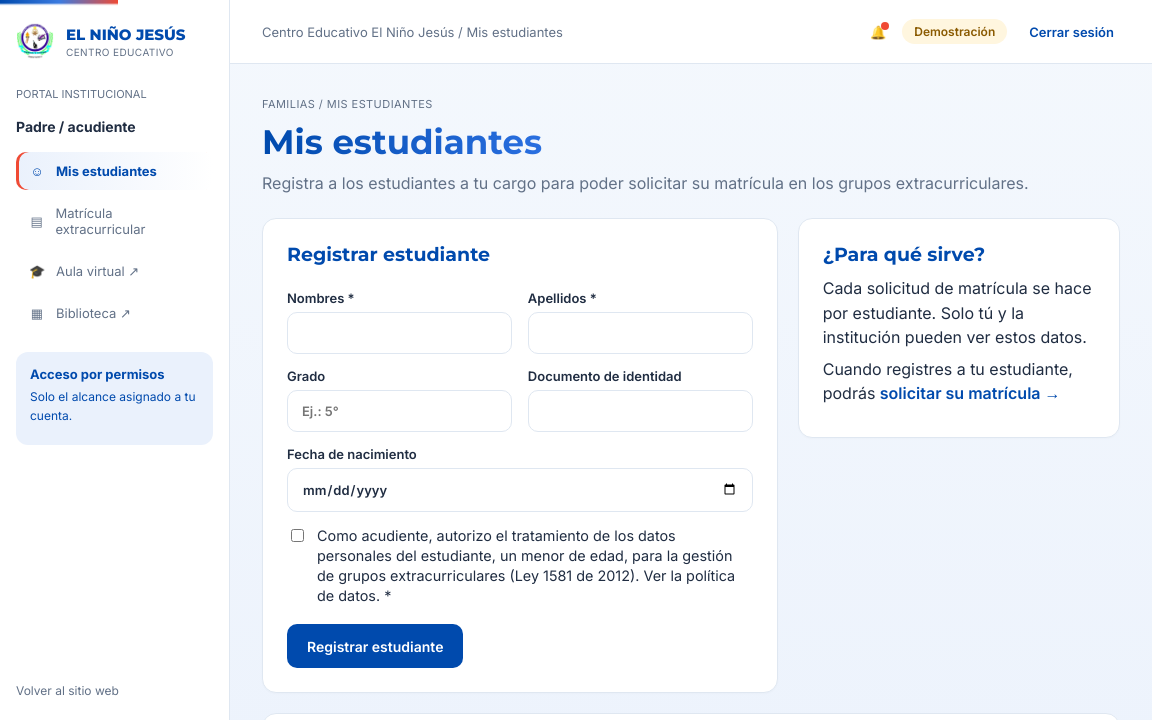
Test: aplicación en modo demostración › un acudiente registra a un estudiante: exige la autorización y luego lo lista
Type "Sofía" into the field labelled "Nombres *".
click(399, 333); type("Sofía")  # box [287,312,512,354]
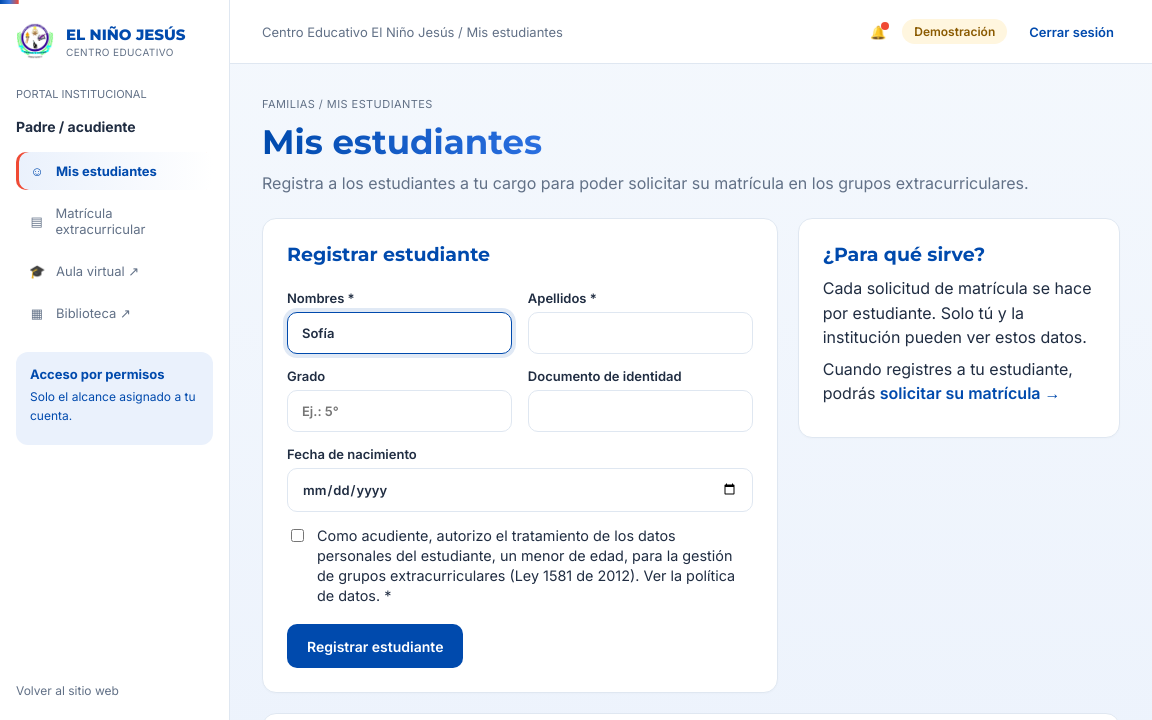
Type "Ramos" into the field labelled "Apellidos *".
click(640, 333); type("Ramos")  # box [528,312,753,354]
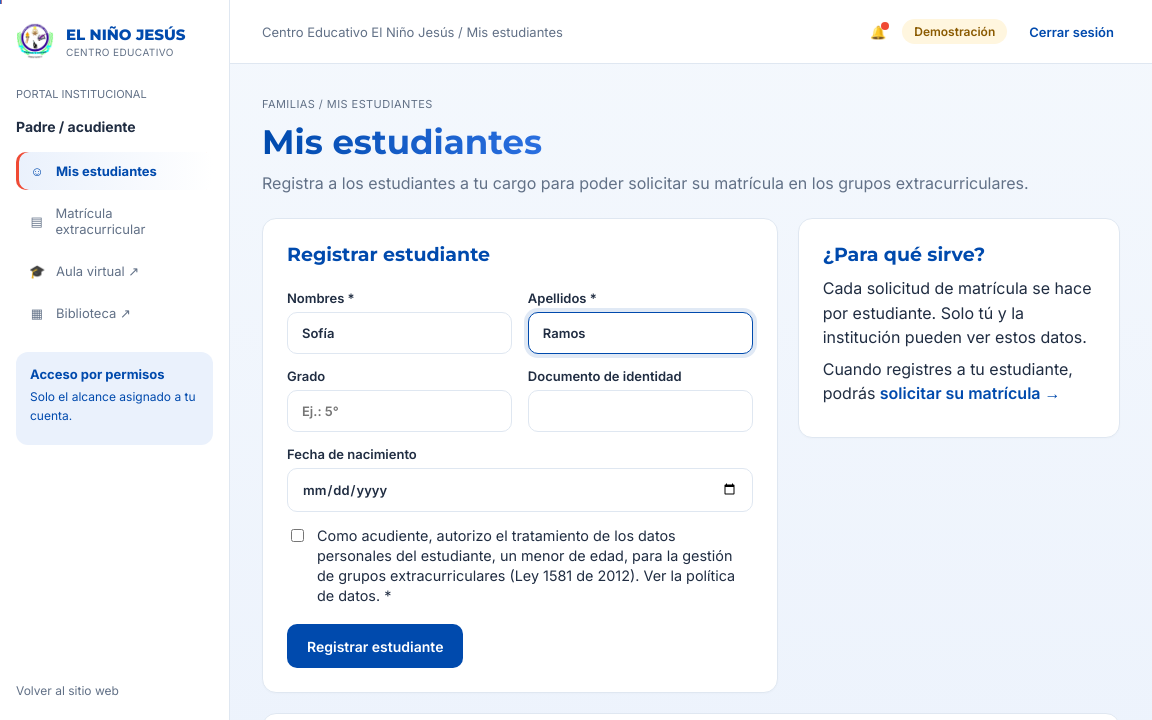
Click the button "Registrar estudiante".
click(375, 646)  # box [287,624,463,668]
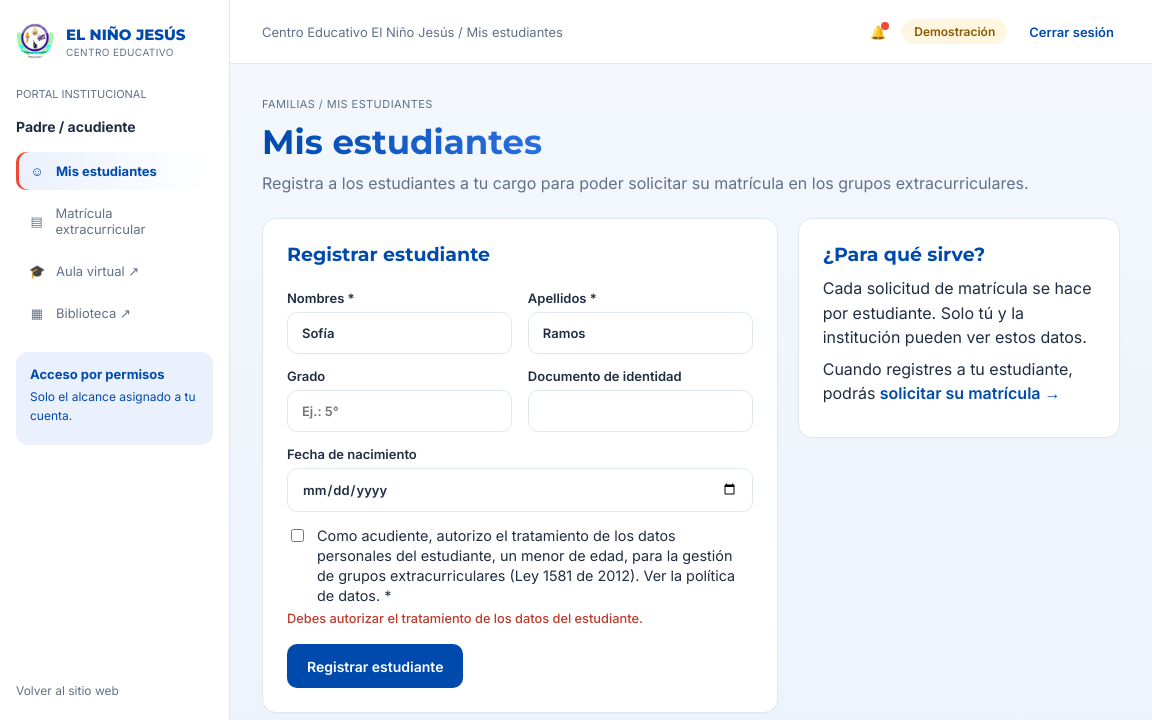
Expected: the text "Debes autorizar el tratamiento de los datos del estudiante." is shown, [287,612,643,626]
Click the checkbox.
click(298, 535)  # box [291,529,304,542]
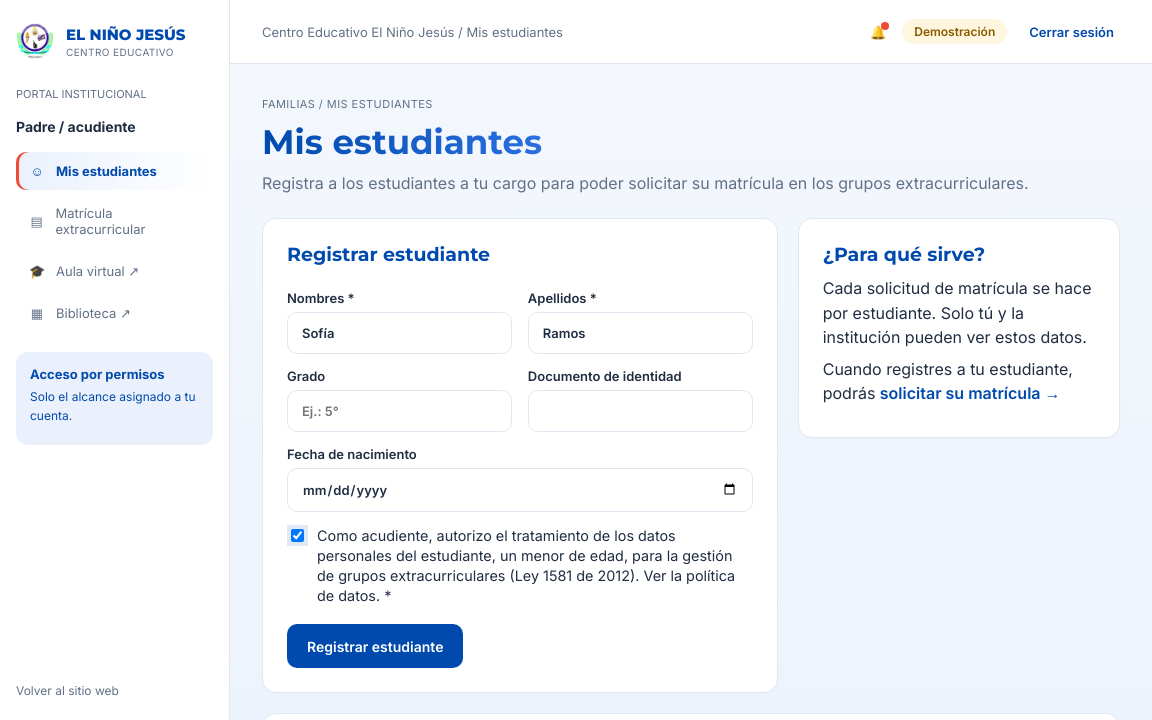
Click the button "Registrar estudiante".
click(375, 646)  # box [287,624,463,668]
(page scrolled)
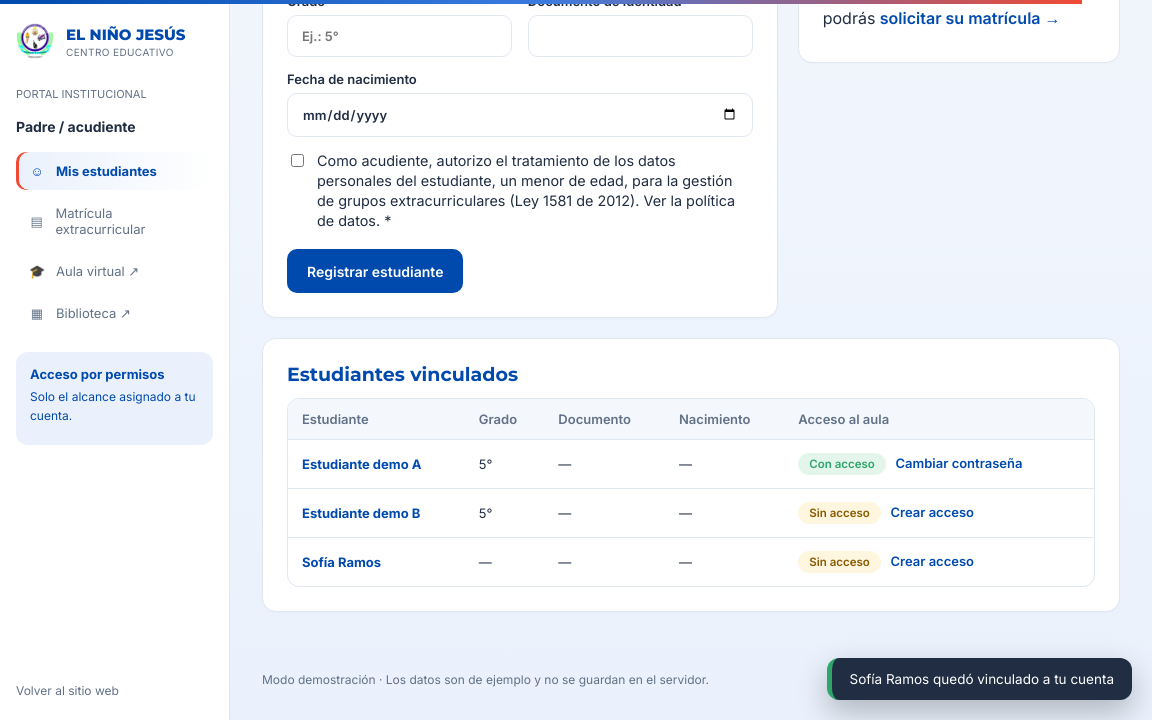
Expected: the cell "Sofía Ramos" is shown, [288,538,465,586]
